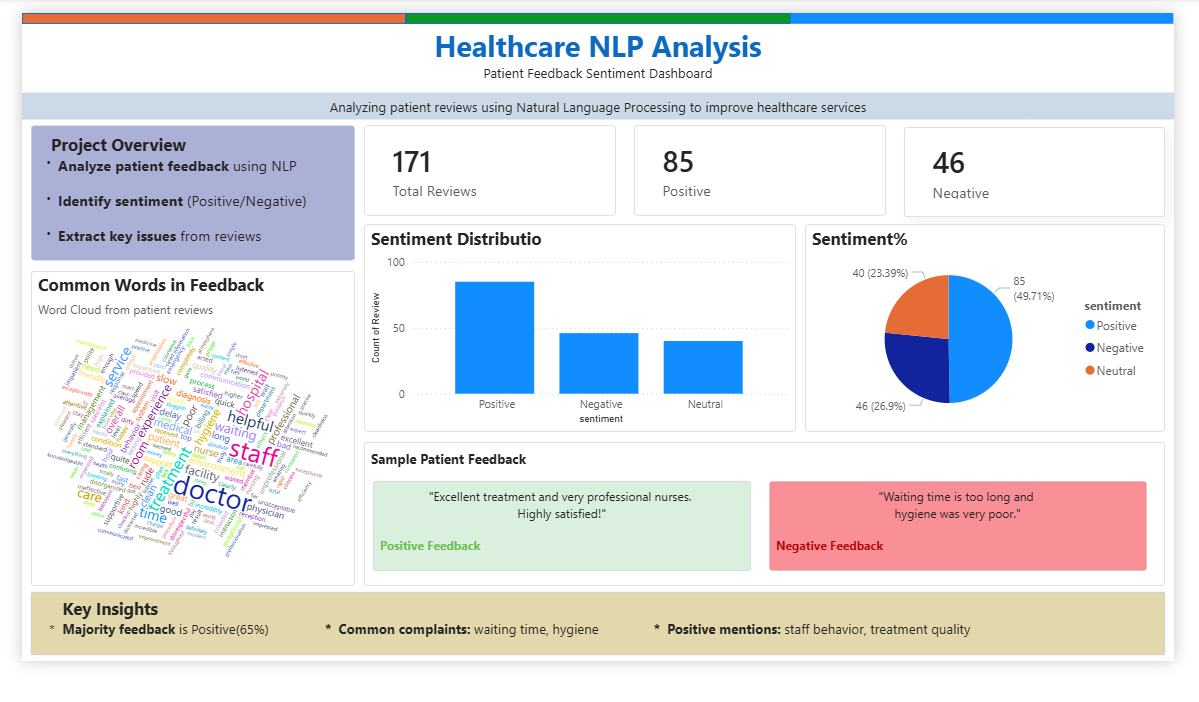

Layout of this report page (visuals, bound fields, positions):
{"tool":"powerbi","page":{"name":"Page 1","canvas":[1280,720],"ordinal":0},"visuals":[{"type":"shape","box":[853.3,0,426,12],"z":0},{"type":"shape","box":[0,0,426.7,12],"z":1000},{"type":"shape","box":[426.7,0,427,12],"z":2000},{"type":"textbox","box":[0,8,1280,80],"z":3000},{"type":"textbox","box":[0,88,1280,30],"z":4000},{"type":"cardVisual","fields":{"Data":["Count(final_healthcare_data.Review)"]},"box":[380,125,280,100],"z":5000},{"type":"cardVisual","fields":{"Data":["final_healthcare_data.Positive Count"]},"box":[680,125,280,100],"z":6000},{"type":"cardVisual","fields":{"Data":["final_healthcare_data.Negative Count"]},"box":[980,126,290,100],"z":7000},{"type":"textbox","box":[10,125,360,150],"z":8000},{"type":"clusteredColumnChart","title":"Sentiment Distributio","fields":{"Category":["final_healthcare_data.sentiment"],"Y":["CountNonNull(final_healthcare_data.Review)"]},"box":[380,235,480,230],"z":9000},{"type":"pieChart","title":"Sentiment%","fields":{"Category":["final_healthcare_data.sentiment"],"Y":["CountNonNull(final_healthcare_data.Review)"]},"box":[870,235,400,230],"z":10000},{"type":"WordCloud1447959067750","title":"Common Words in Feedback","fields":{"Category":["final_healthcare_data.cleaned_review"]},"box":[10,286,360,350],"z":11000},{"type":"textbox","box":[380,476,890,160],"z":13000},{"type":"textbox","box":[390,520,420,100],"z":14000},{"type":"textbox","box":[830,520,420,100],"z":15000},{"type":"shape","box":[10,643,1260,70],"z":15001},{"type":"textbox","box":[10,644,1260,70],"z":15002}]}

Visuals, with their boxes on the page's 1280x720 design canvas (x1, y1, x2, y2). These are canvas units, not pixel positions in the 1199x702 screenshot, which may show the page scaled, cropped or inside an application window:
shape: [853, 0, 1279, 12]
shape: [0, 0, 427, 12]
shape: [427, 0, 854, 12]
textbox: [0, 8, 1280, 88]
textbox: [0, 88, 1280, 118]
cardVisual - Count(final_healthcare_data.Review): [380, 125, 660, 225]
cardVisual - final_healthcare_data.Positive Count: [680, 125, 960, 225]
cardVisual - final_healthcare_data.Negative Count: [980, 126, 1270, 226]
textbox: [10, 125, 370, 275]
"Sentiment Distributio" clusteredColumnChart: [380, 235, 860, 465]
"Sentiment%" pieChart: [870, 235, 1270, 465]
"Common Words in Feedback" WordCloud1447959067750: [10, 286, 370, 636]
textbox: [380, 476, 1270, 636]
textbox: [390, 520, 810, 620]
textbox: [830, 520, 1250, 620]
shape: [10, 643, 1270, 713]
textbox: [10, 644, 1270, 714]
